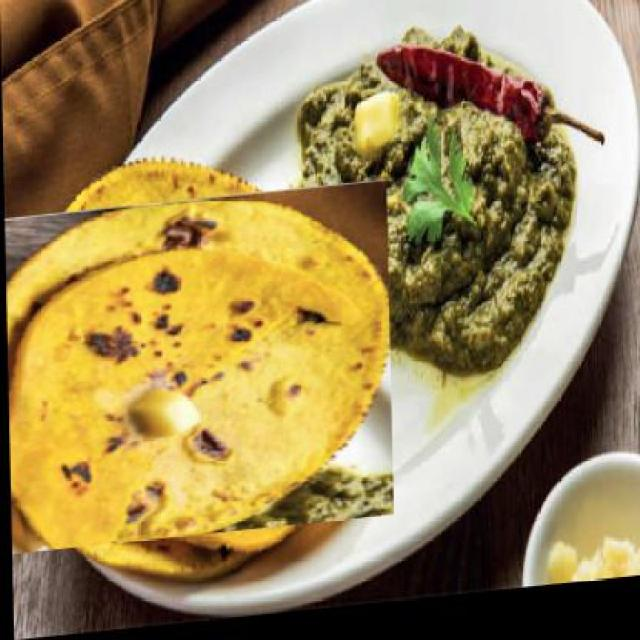chapati: (4, 166, 371, 579)
